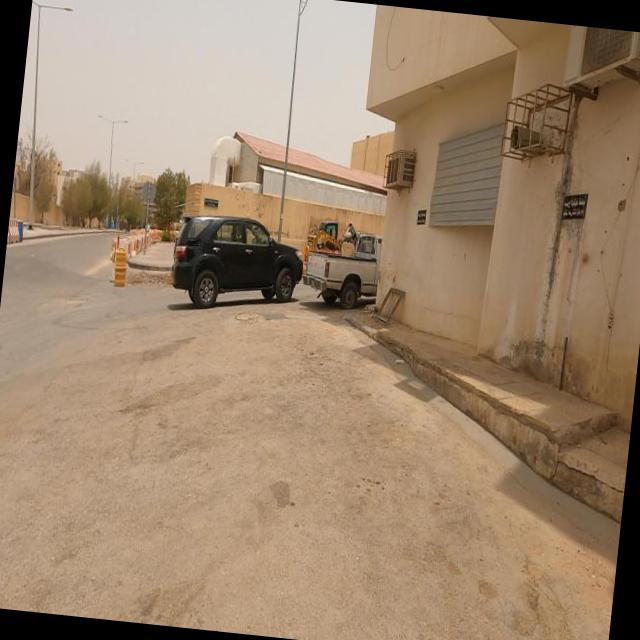debris: (336, 250, 428, 364)
